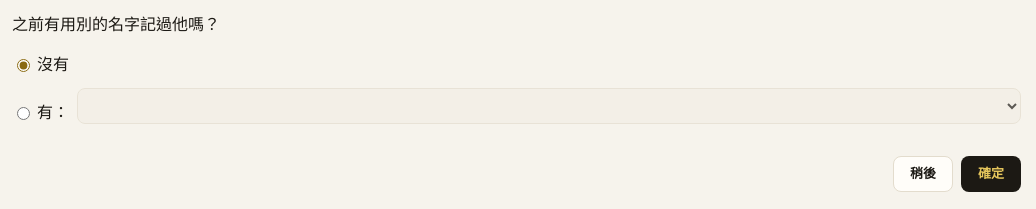
Scenario: MergePromptForm › still renders the question when there are no unlinked people
This screenshot has width=1036, height=209.
Expected: the text "之前有用別的名字記過他嗎？" is shown, [12,13,220,35]
Click the radio button labelled "有：" at (24, 114), box [17,107,30,120]
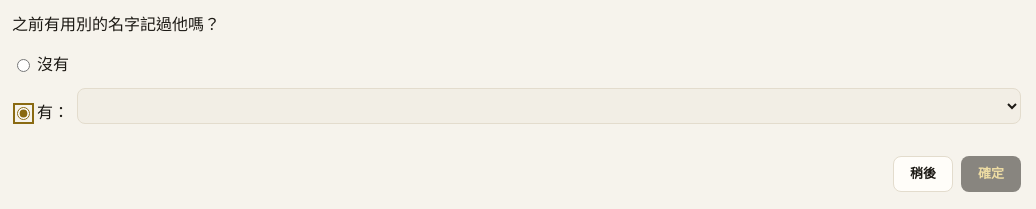
Now the button "確定" is disabled, box [961,156,1021,192]
